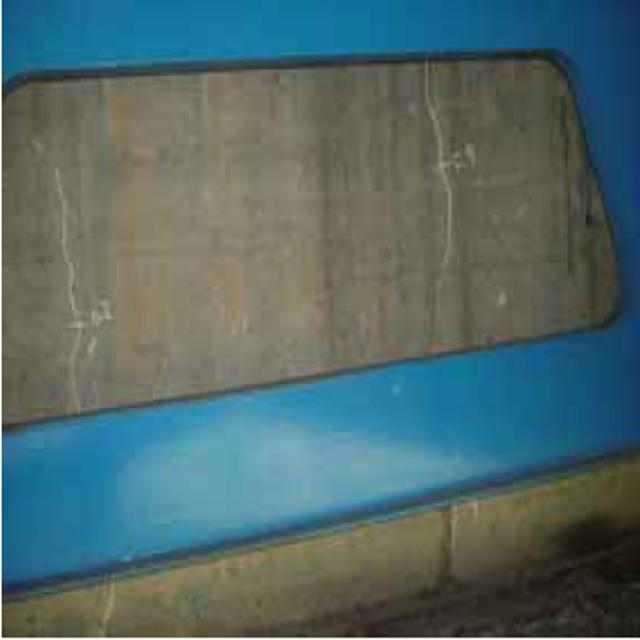crack: (47, 156, 110, 413), (400, 68, 469, 293)
